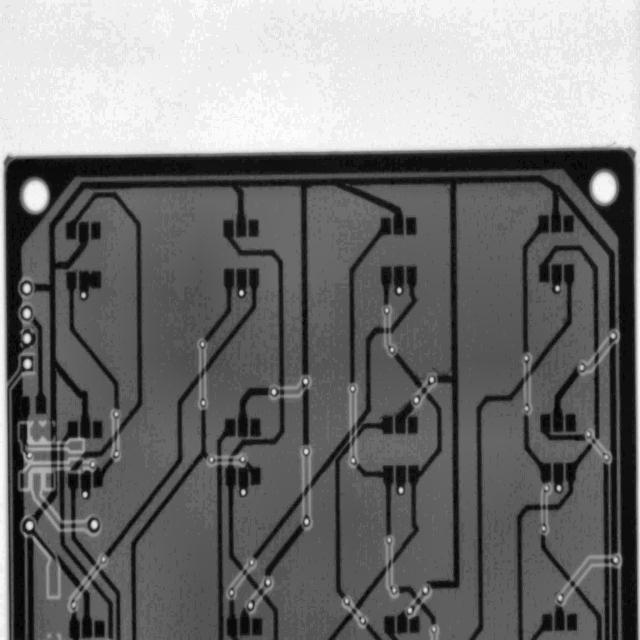Both: (590, 170, 617, 205), (22, 179, 49, 213), (84, 516, 103, 535), (19, 279, 34, 297), (20, 305, 34, 322), (21, 331, 35, 347), (21, 356, 33, 371), (24, 519, 34, 535), (608, 331, 620, 343), (22, 358, 32, 371), (405, 605, 415, 618), (347, 383, 357, 395), (68, 599, 77, 612), (245, 601, 255, 612), (80, 490, 90, 500), (301, 447, 311, 456), (197, 339, 206, 349), (270, 387, 279, 397), (427, 375, 437, 384), (412, 395, 421, 404), (358, 617, 367, 626), (99, 555, 107, 565), (264, 578, 272, 588), (522, 404, 530, 413), (585, 430, 593, 439), (578, 363, 586, 372), (422, 586, 430, 595), (523, 353, 530, 363), (553, 284, 560, 294), (557, 594, 563, 604), (391, 586, 397, 596), (248, 559, 256, 566), (199, 399, 206, 407), (603, 454, 611, 461), (431, 625, 438, 633), (113, 410, 120, 418), (303, 378, 309, 387), (396, 286, 402, 295), (613, 556, 619, 565), (345, 598, 350, 608), (113, 450, 119, 458), (26, 452, 32, 460), (228, 589, 234, 597), (389, 345, 395, 353), (386, 536, 391, 545), (239, 455, 245, 462), (239, 289, 245, 296), (384, 307, 390, 314), (555, 484, 561, 491), (543, 484, 549, 491), (304, 518, 309, 526), (81, 291, 86, 299), (541, 524, 546, 532), (351, 457, 356, 465), (90, 461, 95, 468), (399, 487, 404, 494), (241, 490, 246, 496), (208, 457, 213, 463)
L1: (5, 149, 638, 640), (18, 175, 618, 640), (414, 249, 588, 640), (251, 250, 429, 578), (103, 262, 272, 569), (311, 350, 465, 640), (516, 244, 602, 640), (68, 192, 142, 640), (97, 399, 227, 640), (223, 219, 287, 640), (300, 405, 397, 603), (33, 433, 122, 640), (324, 211, 394, 384), (54, 288, 129, 415), (530, 530, 612, 640), (505, 212, 551, 357), (206, 418, 236, 640), (510, 408, 558, 488), (352, 463, 394, 537), (224, 378, 274, 440), (545, 362, 583, 433), (203, 266, 236, 346), (532, 410, 589, 456), (392, 579, 441, 631), (262, 522, 306, 579), (603, 460, 610, 640), (31, 316, 45, 396), (390, 397, 417, 436), (92, 450, 117, 477), (79, 270, 103, 293), (531, 615, 552, 640), (380, 266, 392, 305), (243, 459, 260, 485), (19, 415, 30, 455), (227, 597, 237, 639), (382, 615, 398, 640), (363, 622, 383, 640), (69, 610, 81, 638), (240, 606, 251, 635), (554, 602, 565, 630), (396, 465, 407, 488), (80, 416, 91, 439), (397, 611, 408, 633), (551, 264, 561, 286), (81, 471, 91, 492), (237, 269, 247, 289), (90, 221, 101, 239), (554, 463, 563, 485), (565, 414, 576, 432), (248, 218, 258, 237), (36, 395, 46, 414), (394, 266, 403, 287), (94, 620, 105, 637), (67, 421, 78, 438), (250, 418, 260, 436), (239, 469, 248, 489), (406, 218, 416, 236), (66, 272, 76, 290), (79, 222, 89, 240), (21, 396, 30, 415), (93, 421, 103, 438), (564, 215, 574, 232), (66, 222, 76, 239), (93, 471, 103, 488), (252, 618, 262, 634), (408, 417, 418, 433), (410, 616, 419, 633), (567, 615, 577, 630), (83, 621, 92, 637)
L2: (0, 368, 23, 640), (554, 548, 616, 598), (28, 495, 90, 541), (28, 527, 61, 569), (72, 561, 102, 602), (583, 336, 614, 373), (23, 460, 90, 474), (22, 442, 69, 456), (230, 562, 252, 591), (588, 434, 608, 458), (249, 582, 268, 604), (382, 313, 392, 350), (386, 544, 393, 588), (278, 384, 306, 394), (49, 565, 58, 596), (304, 455, 308, 519), (410, 593, 425, 610), (417, 381, 431, 399), (348, 605, 363, 621), (213, 456, 241, 464), (32, 473, 41, 497), (351, 392, 354, 458), (201, 347, 204, 400), (68, 441, 83, 451), (20, 424, 28, 442), (114, 417, 118, 452), (525, 361, 528, 404), (21, 473, 28, 488), (46, 474, 54, 487), (543, 490, 546, 524)
